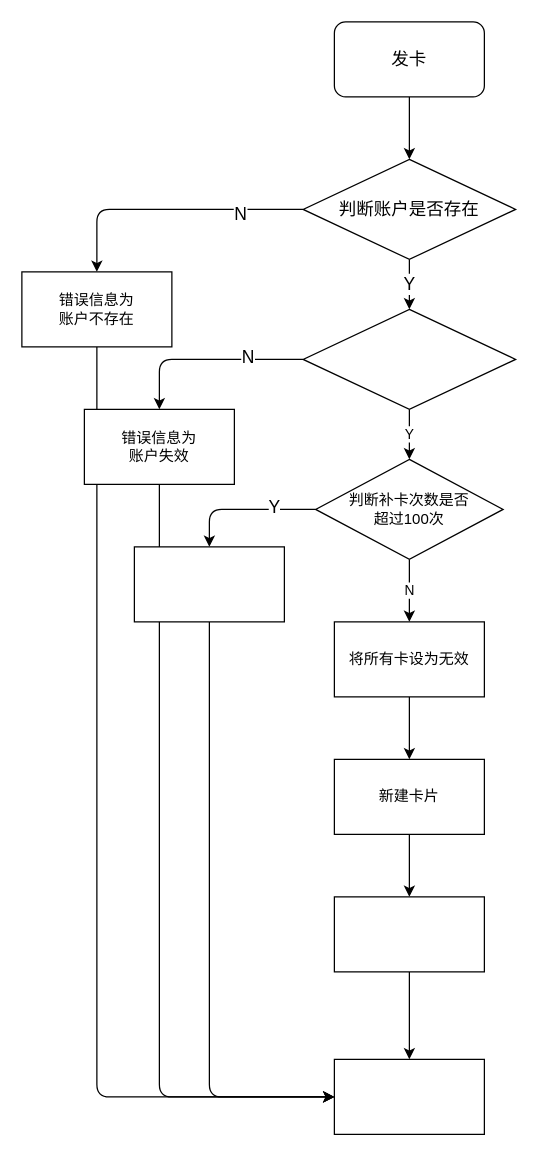
This 538x1156 diagram has some shape labels left out. Each missing label, with the centre of its shape:
"写入日志" belongs at (408,1096).
"判断账户是否有效" belongs at (409,358).
"将卡片列入管理" belongs at (408,934).
"错误信息为 补卡超过上限" belongs at (208,584).
